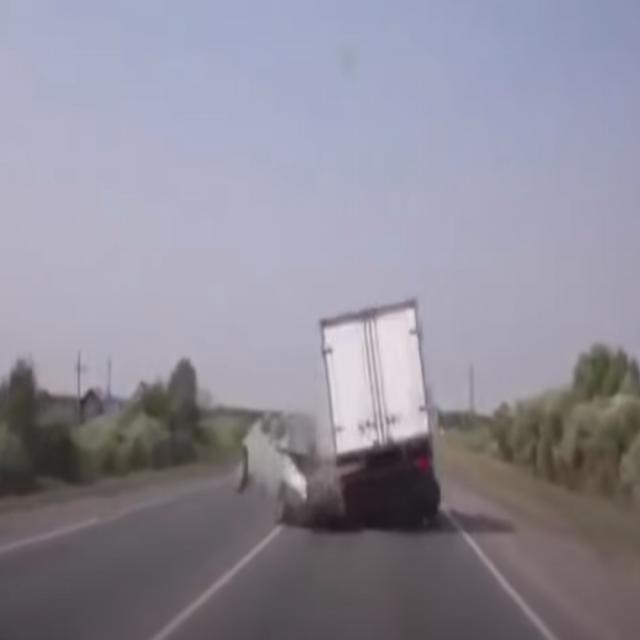accident: (233, 296, 442, 530)
